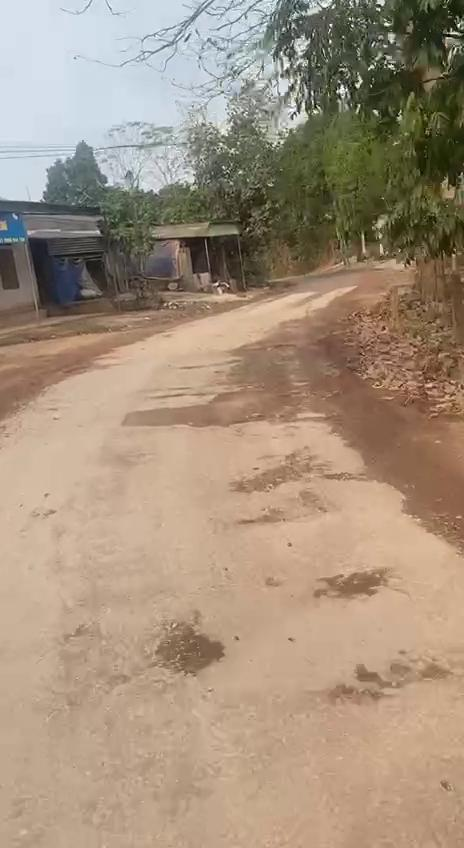pothole: (122, 388, 296, 433), (152, 619, 227, 679), (228, 450, 311, 497)
